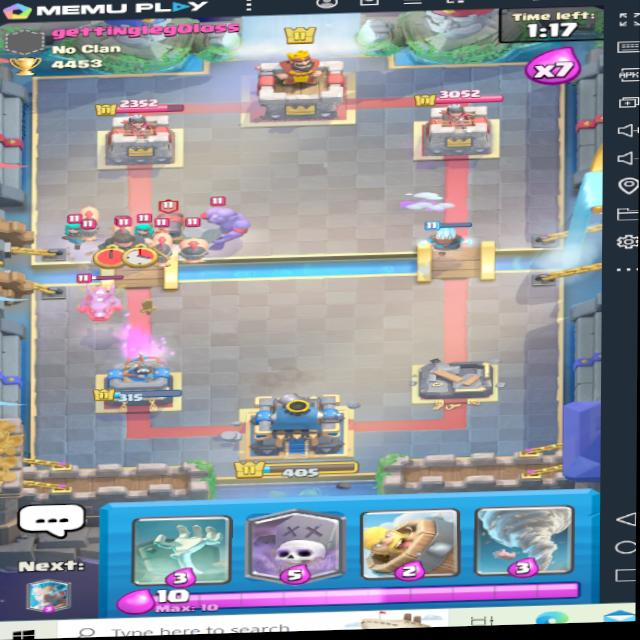bowler: (179, 193, 263, 256)
cannon-cart: (143, 193, 199, 244)
electro-dragon: (67, 269, 134, 323)
rascal-boy: (84, 220, 152, 270)
rascal-girl: (123, 209, 164, 244), (55, 216, 92, 243)
royal-hogs: (144, 226, 178, 266), (70, 205, 103, 241), (175, 234, 211, 263)
